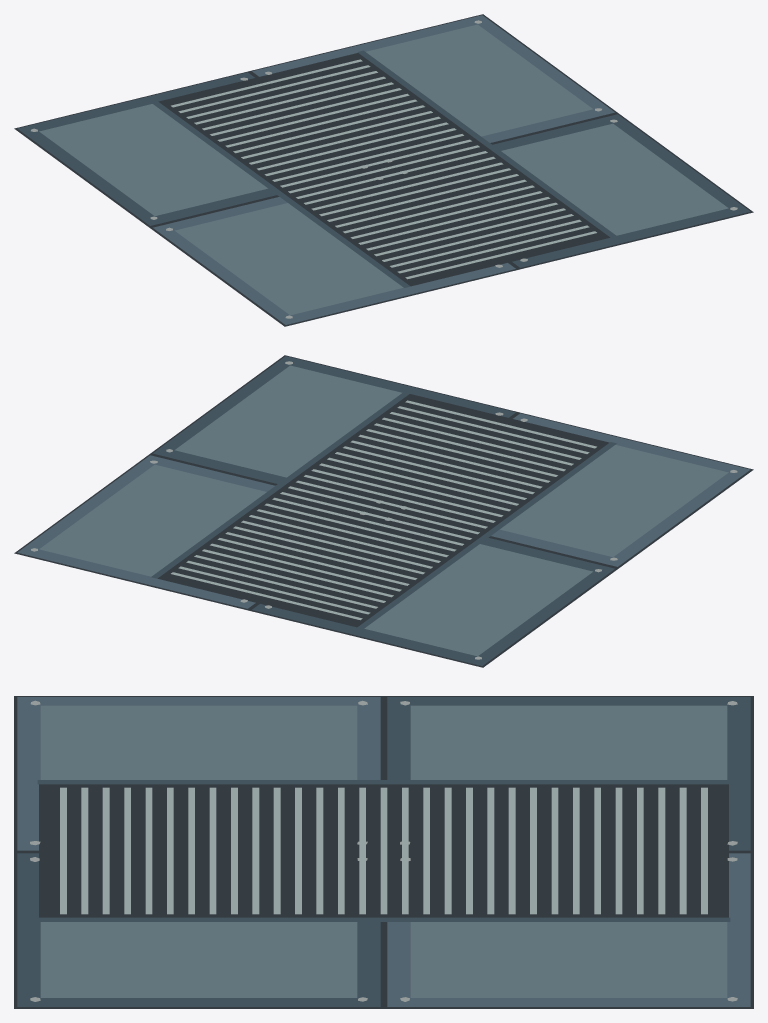
The model's file is 14_Metal_Grating.fbx.
3 views of the same model, one above another, from view 1: azimuth 30°, elevation 25°; view 2: azimuth 150°, elevation 25°; view 3: azimuth 270°, elevation 25° (orthographic). The views are drawn at different scales.
Visible parts, largest first — view 1: 14_Metal_Grating; view 2: 14_Metal_Grating; view 3: 14_Metal_Grating.
Part boxes in pixels (x1,y1,x2,y2): 14_Metal_Grating: (14, 14, 753, 326); 14_Metal_Grating: (14, 355, 753, 667); 14_Metal_Grating: (14, 696, 753, 1008).
Bounding box in the file's own units: 800 × 1.9 × 800.
Materials: 1 (1 with a texture image).
